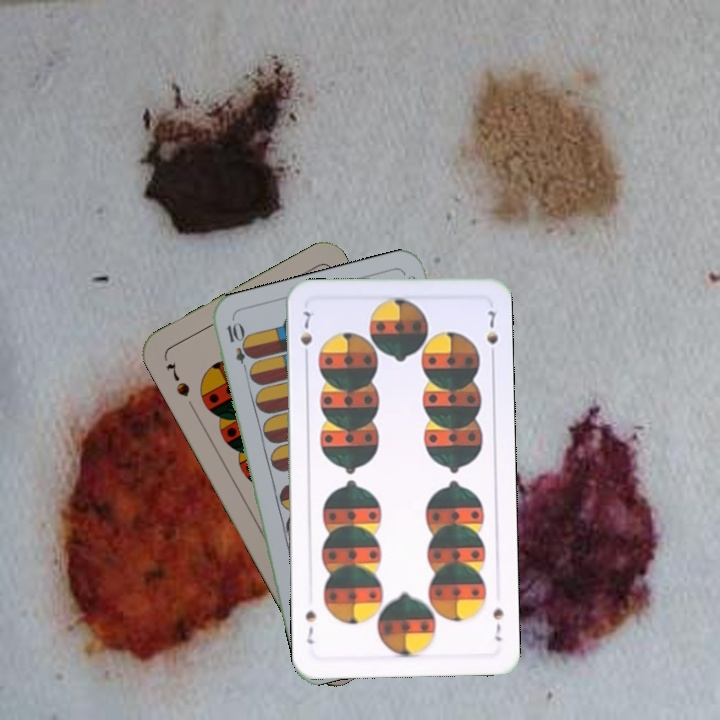E10: (222, 318, 253, 377)
S7: (161, 359, 193, 400), (296, 307, 315, 363), (489, 604, 507, 644)
